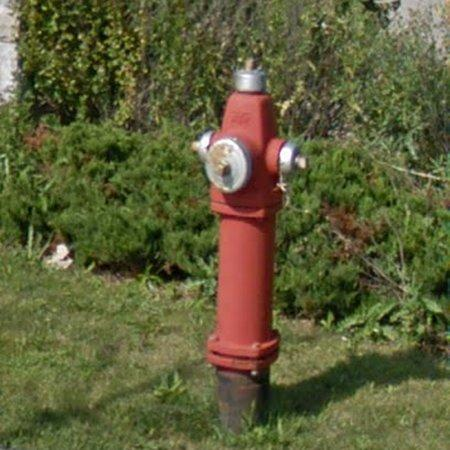a fire hydrant: (192, 69, 307, 432)
